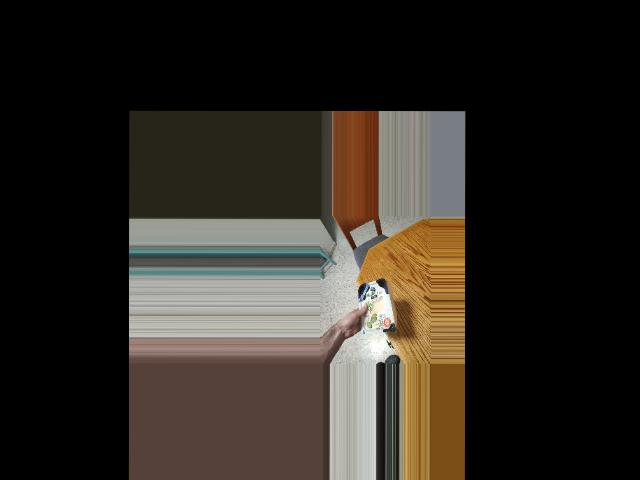cheese: (352, 284, 395, 324)
